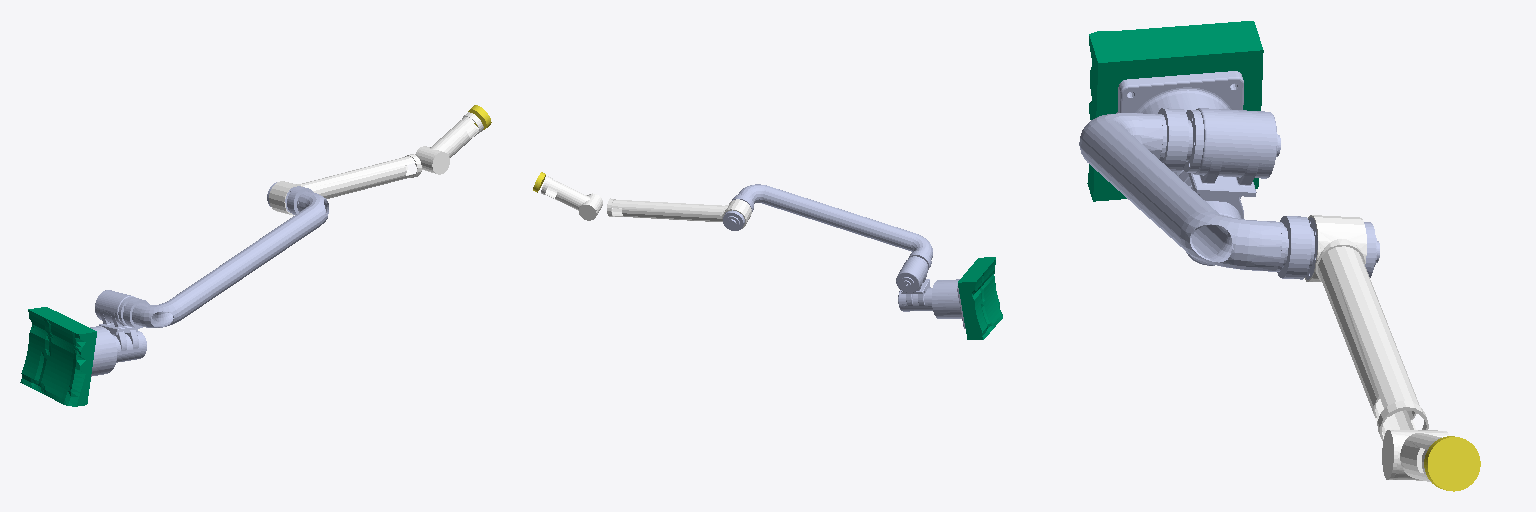
robot.urdf — scifi__starlink_sldasm9:
<?xml version='1.0' encoding='utf-8'?>
<robot name="scifi__starlink_sldasm9">
  <link name="base_link">
    <visual>
      <geometry>
        <mesh filename="../satellites/scifi/satellite.stl" />
      </geometry>
    </visual>
    <collision>
      <geometry>
        <mesh filename="../satellites/scifi/satellite.stl" />
      </geometry>
    </collision>
  </link>
  <link name="scifi_mount" />
  <joint name="satellite_mount_fixed" type="fixed">
    <parent link="base_link" />
    <child link="scifi_mount" />
    <origin xyz="0.619519532530782 -0.7921738257843349 -0.10568590329828764" rpy="3.141592653589793 -1.401868605194988 0.18410646478623383" />
  </joint>
  <link name="mount_support">
    <visual>
      <geometry>
        <mesh filename="../satellites/scifi/mount_support.stl" />
      </geometry>
    </visual>
    <collision>
      <geometry>
        <mesh filename="../satellites/scifi/mount_support.stl" />
      </geometry>
    </collision>
  </link>
  <joint name="support_fixed" type="fixed">
    <parent link="scifi_mount" />
    <child link="mount_support" />
    <origin xyz="0 0 0" rpy="0 0 0" />
  </joint>
  <joint name="arm_adapter_fixed" type="fixed">
    <parent link="scifi_mount" />
    <child link="starlink_space_manipulator_base_link" />
    <origin xyz="-0.008519247174263014 0.009087204933166518 0.16000000119209307" rpy="-1.5707963267948966 0 1.5707963267948966" />
  </joint>
  <link name="starlink_space_manipulator_base_link">
    <inertial>
      <origin xyz="-0.00908719924946466 0.0225428225681148 -0.00851924929637313" rpy="0 0 0" />
      <mass value="8.66024015898073" />
      <inertia ixx="0.0960303512697639" ixy="1.65511904636803E-18" ixz="6.22039820639877E-19" iyy="0.103454922260914" iyz="-9.68471289978311E-19" izz="0.0960303512697639" />
    </inertial>
    <visual>
      <origin xyz="0 0 0" rpy="0 0 0" />
      <geometry>
        <mesh filename="../arms/starlink_sldasm9/meshes/starlink_space_manipulator_base_link.STL" />
      </geometry>
      <material name="">
        <color rgba="0.792156862745098 0.819607843137255 0.933333333333333 1" />
      </material>
    </visual>
    <collision>
      <origin xyz="0 0 0" rpy="0 0 0" />
      <geometry>
        <mesh filename="../arms/starlink_sldasm9/meshes/starlink_space_manipulator_base_link.STL" />
      </geometry>
    </collision>
  </link>
  <link name="starlink_space_manipulator_Shoulder_link_1">
    <inertial>
      <origin xyz="-0.000399471745595769 -0.100006574194712 -0.17423940484461" rpy="0 0 0" />
      <mass value="5.16309216784981" />
      <inertia ixx="0.0524543852135592" ixy="0.00348154867667969" ixz="6.96526910910627E-05" iyy="0.0306595326318824" iyz="-0.00056674368052247" izz="0.0439979075615329" />
    </inertial>
    <visual>
      <origin xyz="0 0 0" rpy="0 0 0" />
      <geometry>
        <mesh filename="../arms/starlink_sldasm9/meshes/starlink_space_manipulator_Shoulder_link_1.STL" />
      </geometry>
      <material name="">
        <color rgba="0.792156862745098 0.819607843137255 0.933333333333333 1" />
      </material>
    </visual>
    <collision>
      <origin xyz="0 0 0" rpy="0 0 0" />
      <geometry>
        <mesh filename="../arms/starlink_sldasm9/meshes/starlink_space_manipulator_Shoulder_link_1.STL" />
      </geometry>
    </collision>
  </link>
  <joint name="starlink_space_manipulator_Shoulder_link_1_yaw" type="revolute">
    <origin xyz="-0.0090872 -0.065 -0.0085192" rpy="1.5708 -0.15574 3.1416" />
    <parent link="starlink_space_manipulator_base_link" />
    <child link="starlink_space_manipulator_Shoulder_link_1" />
    <axis xyz="0 0 -1" />
    <limit lower="-3.14" upper="3.14" effort="0" velocity="0" />
  </joint>
  <link name="starlink_space_manipulator_Upper_arm_Link_1">
    <inertial>
      <origin xyz="0.402106341472203 -0.696465272634528 -0.170177523085579" rpy="0 0 0" />
      <mass value="5.05309869040685" />
      <inertia ixx="0.388719013133801" ixy="0.210155896498943" ixz="9.30829370680679E-08" iyy="0.146049057575642" iyz="1.71830458004218E-07" izz="0.500677708275447" />
    </inertial>
    <visual>
      <origin xyz="0 0 0" rpy="0 0 0" />
      <geometry>
        <mesh filename="../arms/starlink_sldasm9/meshes/starlink_space_manipulator_Upper_arm_Link_1.STL" />
      </geometry>
      <material name="">
        <color rgba="0.792156862745098 0.819607843137255 0.933333333333333 1" />
      </material>
    </visual>
    <collision>
      <origin xyz="0 0 0" rpy="0 0 0" />
      <geometry>
        <mesh filename="../arms/starlink_sldasm9/meshes/starlink_space_manipulator_Upper_arm_Link_1.STL" />
      </geometry>
    </collision>
  </link>
  <joint name="starlink_space_manipulator_Upper_arm_Link_1_roll" type="revolute">
    <origin xyz="0 -0.2 -0.18" rpy="1.5708 0.90646 1.5708" />
    <parent link="starlink_space_manipulator_Shoulder_link_1" />
    <child link="starlink_space_manipulator_Upper_arm_Link_1" />
    <axis xyz="0 0 -1" />
    <limit lower="-2" upper="1.5" effort="0" velocity="0" />
  </joint>
  <link name="starlink_space_manipulator_Mid_arm_Link_1">
    <inertial>
      <origin xyz="-0.000406052776441013 0.317722269561105 0.0155331755135703" rpy="0 0 0" />
      <mass value="1.57635531881168" />
      <inertia ixx="0.133610363618846" ixy="5.33750993405138E-05" ixz="-3.60473795202962E-09" iyy="0.00502119434334708" iyz="-2.514275749911E-05" izz="0.134586018527477" />
    </inertial>
    <visual>
      <origin xyz="0 0 0" rpy="0 0 0" />
      <geometry>
        <mesh filename="../arms/starlink_sldasm9/meshes/starlink_space_manipulator_Mid_arm_Link_1.STL" />
      </geometry>
      <material name="">
        <color rgba="1 1 1 1" />
      </material>
    </visual>
    <collision>
      <origin xyz="0 0 0" rpy="0 0 0" />
      <geometry>
        <mesh filename="../arms/starlink_sldasm9/meshes/starlink_space_manipulator_Mid_arm_Link_1.STL" />
      </geometry>
    </collision>
  </link>
  <joint name="starlink_space_manipulator_Mid_arm_Link_1_roll" type="revolute">
    <origin xyz="0.599999999999673 -1.03923048454122 0" rpy="-3.14159265358979 0 0.828250280535091" />
    <parent link="starlink_space_manipulator_Upper_arm_Link_1" />
    <child link="starlink_space_manipulator_Mid_arm_Link_1" />
    <axis xyz="0 0 -1" />
    <limit lower="-3.14" upper="3.14" effort="0" velocity="0" />
  </joint>
  <link name="starlink_space_manipulator_Upper_wrist_Link_1">
    <inertial>
      <origin xyz="-0.000400003664721815 -0.201565878030355 -0.00216705855311664" rpy="0 0 0" />
      <mass value="0.994770641034713" />
      <inertia ixx="0.00165409639029414" ixy="-7.59103925411082E-06" ixz="-3.17403155320863E-06" iyy="0.00201437937768072" iyz="2.63246464091218E-06" izz="0.00159638838344539" />
    </inertial>
    <visual>
      <origin xyz="0 0 0" rpy="0 0 0" />
      <geometry>
        <mesh filename="../arms/starlink_sldasm9/meshes/starlink_space_manipulator_Upper_wrist_Link_1.STL" />
      </geometry>
      <material name="">
        <color rgba="0.792156862745098 0.819607843137255 0.933333333333333 1" />
      </material>
    </visual>
    <collision>
      <origin xyz="0 0 0" rpy="0 0 0" />
      <geometry>
        <mesh filename="../arms/starlink_sldasm9/meshes/starlink_space_manipulator_Upper_wrist_Link_1.STL" />
      </geometry>
    </collision>
  </link>
  <joint name="starlink_space_manipulator_Upper_wrist_Link_1_yaw" type="revolute">
    <origin xyz="-0.00050155183276912 0.686793643713439 0.0155010481432086" rpy="0 -0.0763876794035917 3.14159265358979" />
    <parent link="starlink_space_manipulator_Mid_arm_Link_1" />
    <child link="starlink_space_manipulator_Upper_wrist_Link_1" />
    <axis xyz="0 -1 0" />
    <limit lower="-3.14" upper="3.14" effort="0" velocity="0" />
  </joint>
  <link name="starlink_space_manipulator_Upper_wrist_Link_2">
    <inertial>
      <origin xyz="8.45304168883843E-08 0.0848318719623631 -0.00515657391755576" rpy="0 0 0" />
      <mass value="1.03716823037577" />
      <inertia ixx="0.0100970561498589" ixy="1.32295633551837E-09" ixz="-9.43675929999229E-09" iyy="0.00222325407426665" iyz="-2.08772874866187E-06" izz="0.0105840577017538" />
    </inertial>
    <visual>
      <origin xyz="0 0 0" rpy="0 0 0" />
      <geometry>
        <mesh filename="../arms/starlink_sldasm9/meshes/starlink_space_manipulator_Upper_wrist_Link_2.STL" />
      </geometry>
      <material name="">
        <color rgba="1 1 1 1" />
      </material>
    </visual>
    <collision>
      <origin xyz="0 0 0" rpy="0 0 0" />
      <geometry>
        <mesh filename="../arms/starlink_sldasm9/meshes/starlink_space_manipulator_Upper_wrist_Link_2.STL" />
      </geometry>
    </collision>
  </link>
  <joint name="starlink_space_manipulator_Upper_wrist_Link_2_roll" type="revolute">
    <origin xyz="0 -0.30020635628656 0" rpy="-0.0158640776811277 -0.0317448426184613 -2.67805461574742" />
    <parent link="starlink_space_manipulator_Upper_wrist_Link_1" />
    <child link="starlink_space_manipulator_Upper_wrist_Link_2" />
    <axis xyz="0 0 1" />
    <limit lower="-2.5" upper="1.8" effort="0" velocity="0" />
  </joint>
  <link name="starlink__space_manipulator_2F-Body_Link">
    </link>
  <joint name="starlink__space_manipulator_2F-Body_Link_yaw" type="revolute">
    <origin xyz="0 0.34845 -0.0053813" rpy="-3.1416 0.93592 0" />
    <parent link="starlink_space_manipulator_Upper_wrist_Link_2" />
    <child link="starlink__space_manipulator_2F-Body_Link" />
    <axis xyz="0 -1 0" />
    <limit lower="-3.14" upper="3.14" effort="0" velocity="0" />
  </joint>
  <link name="angular_hand">
    <visual>
      <geometry>
        <mesh filename="../arms/starlink_sldasm9/meshes/hand_2finger.STL" scale="2 2 2" />
      </geometry>
    </visual>
    <collision>
      <geometry>
        <mesh filename="../arms/starlink_sldasm9/meshes/hand_2finger.STL" scale="2 2 2" />
      </geometry>
    </collision>
  </link>
  <joint name="angular_hand_fixed" type="fixed">
    <parent link="starlink__space_manipulator_2F-Body_Link" />
    <child link="angular_hand" />
    <origin xyz="0 -0.036 0" rpy="-1.5707963267948966 0 0" />
  </joint>
  <link name="angular_adapter">
    <visual>
      <geometry>
        <mesh filename="../arms/starlink_sldasm9/meshes/angular_adapter.stl" />
      </geometry>
    </visual>
    <collision>
      <geometry>
        <mesh filename="../arms/starlink_sldasm9/meshes/angular_adapter.stl" />
      </geometry>
    </collision>
  </link>
  <joint name="angular_adapter_fixed" type="fixed">
    <parent link="starlink__space_manipulator_2F-Body_Link" />
    <child link="angular_adapter" />
    <origin xyz="0 -0.0005 0" rpy="1.5707963267948966 0 0" />
  </joint>
  <link name="angular_finger_1">
    <visual>
      <geometry>
        <mesh filename="../arms/starlink_sldasm9/meshes/finger_proximal.STL" scale="2 2 2" />
      </geometry>
    </visual>
    <collision>
      <geometry>
        <mesh filename="../arms/starlink_sldasm9/meshes/finger_proximal.STL" scale="2 2 2" />
      </geometry>
    </collision>
  </link>
  <link name="angular_tip_1">
    <visual>
      <geometry>
        <mesh filename="../arms/starlink_sldasm9/meshes/finger_distal.STL" scale="2 2 2" />
      </geometry>
    </visual>
    <collision>
      <geometry>
        <mesh filename="../arms/starlink_sldasm9/meshes/finger_distal.STL" scale="2 2 2" />
      </geometry>
    </collision>
  </link>
  <joint name="angular_joint_1" type="revolute">
    <parent link="angular_hand" />
    <child link="angular_finger_1" />
    <axis xyz="0 0 1" />
    <origin xyz="-0.005 0.0619 -0.22964" rpy="-1.570796327 .649262481663582 1.5707963267948966" />
    <limit lower="0" upper="1.51" effort="2" velocity="1" />
  </joint>
  <joint name="angular_joint_tip_1" type="revolute">
    <parent link="angular_finger_1" />
    <child link="angular_tip_1" />
    <axis xyz="0 0 1" />
    <origin xyz="0.088 -0.006 0.0" rpy="0 0 0" />
    <limit lower="0" upper="2" effort="2" velocity="1" />
  </joint>
  <link name="angular_finger_2">
    <visual>
      <geometry>
        <mesh filename="../arms/starlink_sldasm9/meshes/finger_proximal.STL" scale="2 2 2" />
      </geometry>
    </visual>
    <collision>
      <geometry>
        <mesh filename="../arms/starlink_sldasm9/meshes/finger_proximal.STL" scale="2 2 2" />
      </geometry>
    </collision>
  </link>
  <link name="angular_tip_2">
    <visual>
      <geometry>
        <mesh filename="../arms/starlink_sldasm9/meshes/finger_distal.STL" scale="2 2 2" />
      </geometry>
    </visual>
    <collision>
      <geometry>
        <mesh filename="../arms/starlink_sldasm9/meshes/finger_distal.STL" scale="2 2 2" />
      </geometry>
    </collision>
  </link>
  <joint name="angular_joint_2" type="revolute">
    <parent link="angular_hand" />
    <child link="angular_finger_2" />
    <axis xyz="0 0 1" />
    <origin xyz="-0.005 -0.0619 -0.22964" rpy="-1.570796327 .649262481663582 -1.5707963267948966" />
    <limit lower="0" upper="1.51" effort="2" velocity="1" />
  </joint>
  <joint name="angular_joint_tip_2" type="revolute">
    <parent link="angular_finger_2" />
    <child link="angular_tip_2" />
    <axis xyz="0 0 1" />
    <origin xyz="0.088 -0.006 0.0" rpy="0 0 0" />
    <limit lower="0" upper="2" effort="2" velocity="1" />
  </joint>
  <link name="angular_tcp" />
  <joint name="angular_tcp_fixed" type="fixed">
    <parent link="angular_hand" />
    <child link="angular_tcp" />
    <origin xyz="-0.005 0 -0.34" rpy="3.141592653589793 0 0" />
  </joint>
</robot>

--- Render facts (derived) ---
Views: 3 orthographic renders of the robot side by side, from view 1: azimuth 30°, elevation 25°; view 2: azimuth 150°, elevation 25°; view 3: azimuth 270°, elevation 25°.
Model scifi__starlink_sldasm9 with 17 links and 16 joints (10 revolute, 6 fixed), rooted at base_link, posed all joints at 0.
Visible links, largest first — view 1: starlink_space_manipulator_Upper_arm_Link_1, mount_support, starlink_space_manipulator_Mid_arm_Link_1, starlink_space_manipulator_Shoulder_link_1, starlink_space_manipulator_Upper_wrist_Link_2, starlink_space_manipulator_base_link; view 2: starlink_space_manipulator_Upper_arm_Link_1, mount_support, starlink_space_manipulator_Mid_arm_Link_1, starlink_space_manipulator_Shoulder_link_1, starlink_space_manipulator_Upper_wrist_Link_2, starlink_space_manipulator_base_link; view 3: starlink_space_manipulator_Upper_arm_Link_1, mount_support, starlink_space_manipulator_Mid_arm_Link_1, starlink_space_manipulator_Shoulder_link_1, starlink_space_manipulator_base_link, angular_adapter, starlink_space_manipulator_Upper_wrist_Link_2.
Link boxes in pixels (x1,y1,x2,y2): starlink_space_manipulator_Upper_arm_Link_1: (132,182,328,327); mount_support: (20,307,96,406); starlink_space_manipulator_Mid_arm_Link_1: (269,154,421,215); starlink_space_manipulator_Shoulder_link_1: (95,290,148,362); starlink_space_manipulator_Upper_wrist_Link_2: (415,112,483,174); starlink_space_manipulator_base_link: (90,326,116,376); starlink_space_manipulator_Upper_arm_Link_1: (723,184,932,285); mount_support: (958,257,1002,339); starlink_space_manipulator_Mid_arm_Link_1: (607,198,751,228); starlink_space_manipulator_Shoulder_link_1: (896,251,932,311); starlink_space_manipulator_Upper_wrist_Link_2: (541,176,602,220); starlink_space_manipulator_base_link: (932,279,965,328); starlink_space_manipulator_Upper_arm_Link_1: (1079,113,1379,279); mount_support: (1087,21,1263,201); starlink_space_manipulator_Mid_arm_Link_1: (1305,215,1428,440); starlink_space_manipulator_Shoulder_link_1: (1158,108,1280,265); starlink_space_manipulator_base_link: (1117,71,1243,198); angular_adapter: (1424,436,1480,491); starlink_space_manipulator_Upper_wrist_Link_2: (1382,430,1448,482).
Size in the robot's own frame: 3.04 by 0.955 by 0.6908 metres.
7 mesh visuals loaded from 12 distinct referenced files (7 binary STL); not drawn: 7 (reference not matched to a file when rendering).
